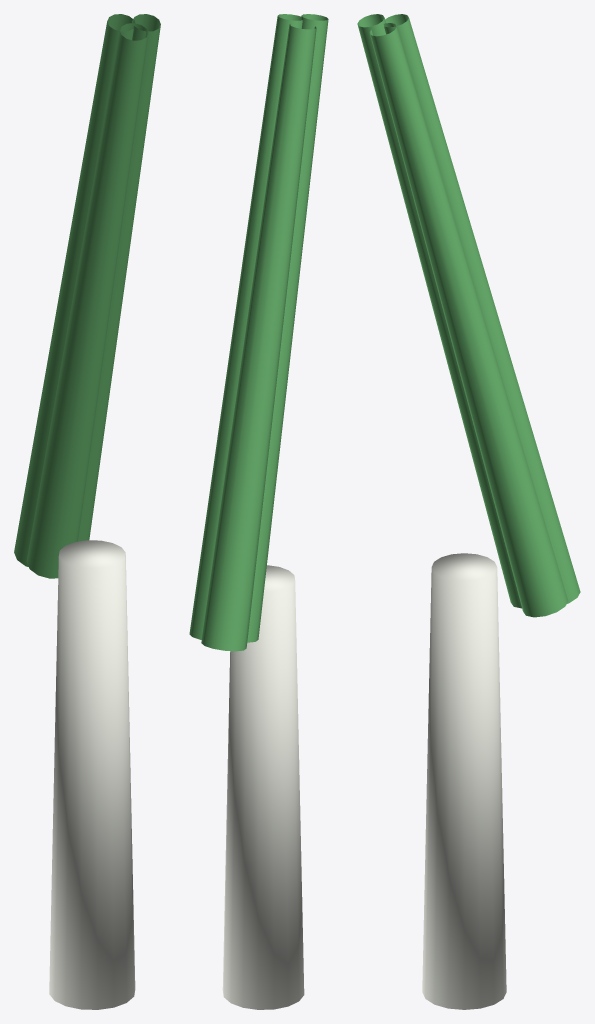
The model's file is spring_onion.glb.
The picture shows the model from 3 angles, left to right: view 1: azimuth 30°, elevation 25°; view 2: azimuth 150°, elevation 25°; view 3: azimuth 270°, elevation 25°; orthographic projection. The views are drawn at different scales.
Parts seen in each view (by area): view 1: Scallion_Stalk, Scallion_Leaves; view 2: Scallion_Leaves, Scallion_Stalk; view 3: Scallion_Leaves, Scallion_Stalk.
Boxes of the visible parts, x1,y1,x2,y2 form: Scallion_Stalk: [49, 540, 135, 1009]; Scallion_Leaves: [14, 14, 160, 578]; Scallion_Leaves: [189, 14, 328, 651]; Scallion_Stalk: [222, 565, 304, 1009]; Scallion_Leaves: [357, 14, 580, 617]; Scallion_Stalk: [422, 553, 506, 1009].
Bounding box in the file's own units: 0.018 × 0.2286 × 0.0476.
